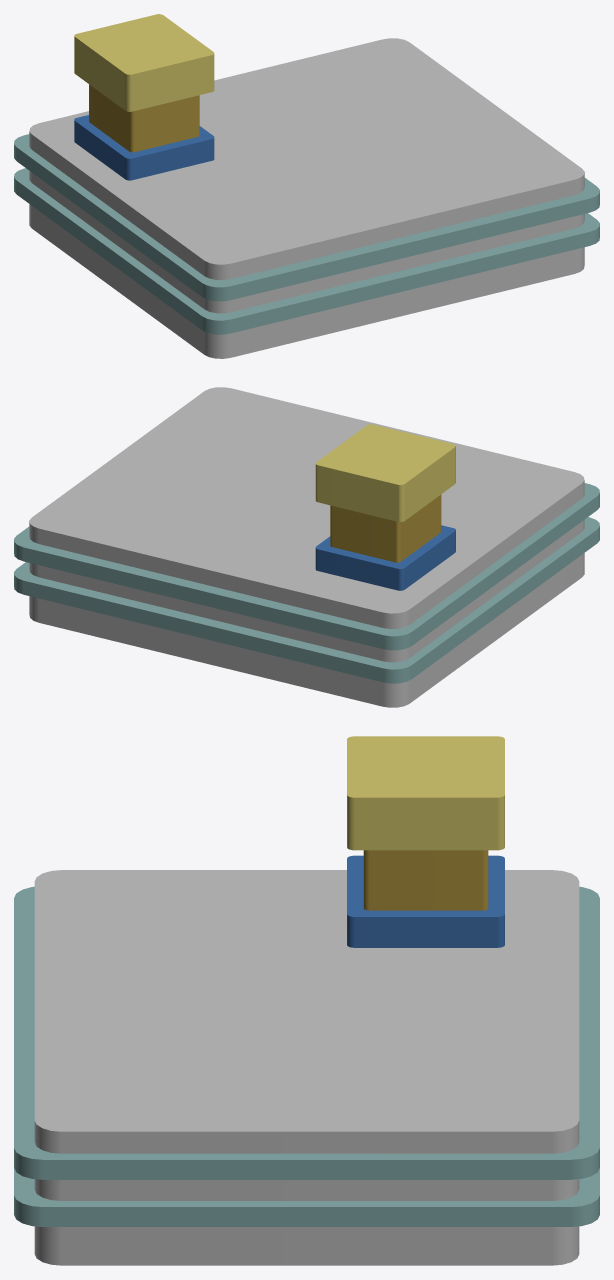
Rendered from SM_house_1-1.fbx.
3 views of the same model, one above another, from view 1: azimuth 30°, elevation 25°; view 2: azimuth 150°, elevation 25°; view 3: azimuth 270°, elevation 25° (orthographic). The views are drawn at different scales.
Parts seen in each view (by area): view 1: polySurface200; view 2: polySurface200; view 3: polySurface200.
Boxes of the visible parts, left/top/right/bottom form: polySurface200: left=14, top=14, right=599, bottom=358; polySurface200: left=14, top=387, right=599, bottom=707; polySurface200: left=14, top=736, right=599, bottom=1265.
Bounding box in the file's own units: 326 × 158 × 295.
